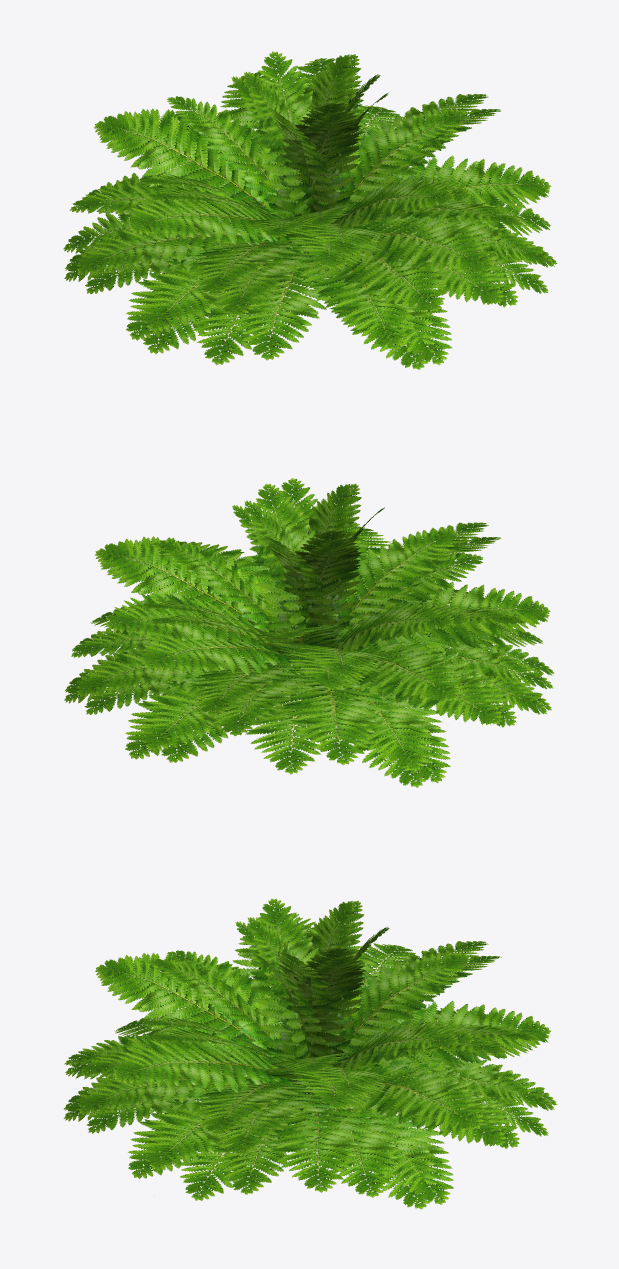
File: Arbusto.FBX
3 renders of one model, top to bottom at view 1: azimuth 30°, elevation 25°; view 2: azimuth 150°, elevation 25°; view 3: azimuth 270°, elevation 25°, orthographic. The views are drawn at different scales.
Visible parts, largest first — view 1: Plane006; view 2: Plane006; view 3: Plane006.
Part boxes in pixels (left/top/right/bottom): Plane006: left=63, top=51, right=557, bottom=369; Plane006: left=64, top=478, right=554, bottom=787; Plane006: left=63, top=898, right=557, bottom=1209.
Size of the model in its own units: 173 by 74.73 by 174.
1 material, 1 textured.
